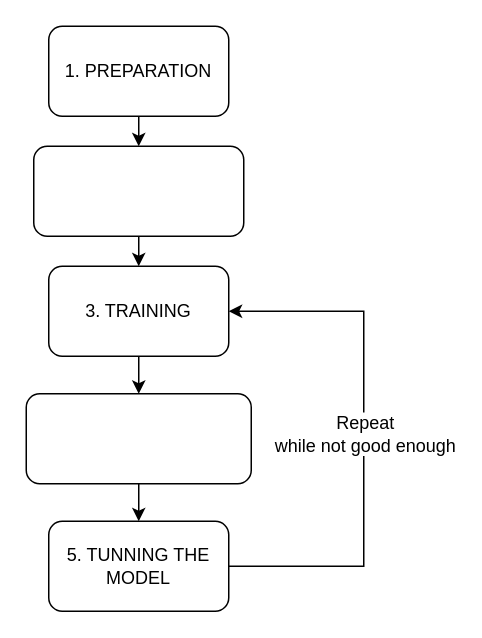
Image size: 482x638. Some labels were removed from this diagram. Here are the shapes that lost their labels. From the top down, the box of each, then its label:
(32, 145, 244, 236): 2. IMPLEMENTATION
(25, 392, 251, 484): 4. PERFORMANCE MEASURE ON TEST DATA
